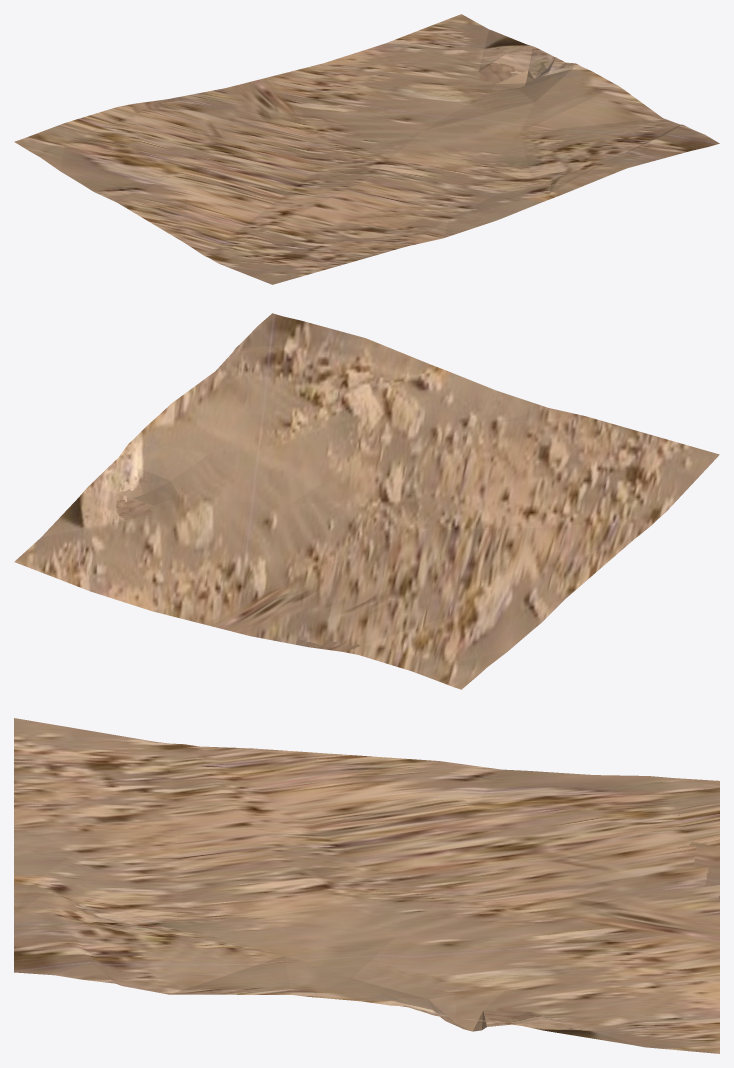
3 views of the same model, one above another, from view 1: azimuth 30°, elevation 25°; view 2: azimuth 150°, elevation 25°; view 3: azimuth 270°, elevation 25° (orthographic). The views are drawn at different scales.
Bounding box in the file's own units: 1.04 × 0.1743 × 1.04.
2 materials, 2 textured.
